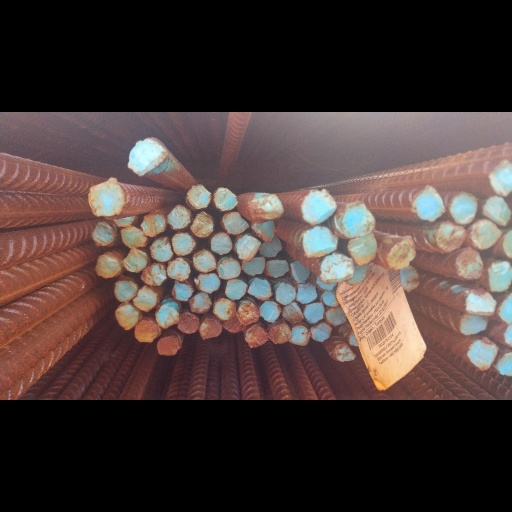dipstick: (126, 142, 166, 177), (88, 182, 125, 217), (301, 190, 336, 224), (340, 203, 376, 235), (466, 338, 497, 372), (414, 189, 446, 221), (302, 227, 336, 256), (249, 194, 283, 223), (346, 235, 377, 266), (319, 255, 354, 282), (386, 236, 416, 267), (481, 195, 510, 227), (469, 220, 502, 248), (462, 291, 496, 318), (436, 223, 467, 252), (450, 192, 478, 224), (457, 249, 484, 279), (490, 160, 512, 196), (488, 261, 511, 293), (115, 304, 139, 332), (221, 211, 250, 234), (458, 313, 488, 335), (236, 235, 261, 261), (95, 254, 121, 278), (133, 286, 156, 313), (123, 248, 148, 272), (141, 214, 167, 237), (191, 212, 214, 238), (399, 264, 420, 292), (213, 187, 236, 212), (167, 205, 190, 230), (247, 278, 272, 301), (92, 222, 114, 248), (140, 264, 167, 285), (187, 185, 210, 209), (193, 248, 216, 272), (236, 301, 259, 325), (166, 257, 190, 280), (114, 279, 138, 302), (251, 219, 276, 241), (134, 320, 159, 342), (245, 326, 268, 349), (211, 232, 233, 256), (149, 238, 173, 260), (217, 258, 242, 279), (194, 273, 220, 293), (213, 299, 236, 321), (155, 307, 178, 329), (265, 258, 289, 279), (119, 227, 144, 247), (275, 282, 297, 304), (189, 292, 211, 314), (295, 282, 318, 303), (310, 322, 333, 343), (199, 318, 222, 339), (172, 234, 195, 255), (241, 257, 265, 277), (268, 325, 292, 345), (347, 259, 365, 285), (288, 325, 310, 346), (259, 301, 281, 322), (177, 312, 199, 333), (157, 336, 179, 357), (259, 237, 282, 257), (290, 260, 310, 283), (302, 303, 325, 323), (171, 281, 192, 302), (282, 303, 304, 323), (225, 279, 247, 299), (325, 306, 348, 325), (496, 349, 512, 376), (335, 345, 356, 362), (322, 289, 340, 308), (224, 315, 242, 334), (498, 296, 512, 320), (502, 228, 512, 259), (316, 276, 337, 290), (114, 216, 135, 226), (505, 326, 512, 347), (350, 331, 359, 347)
